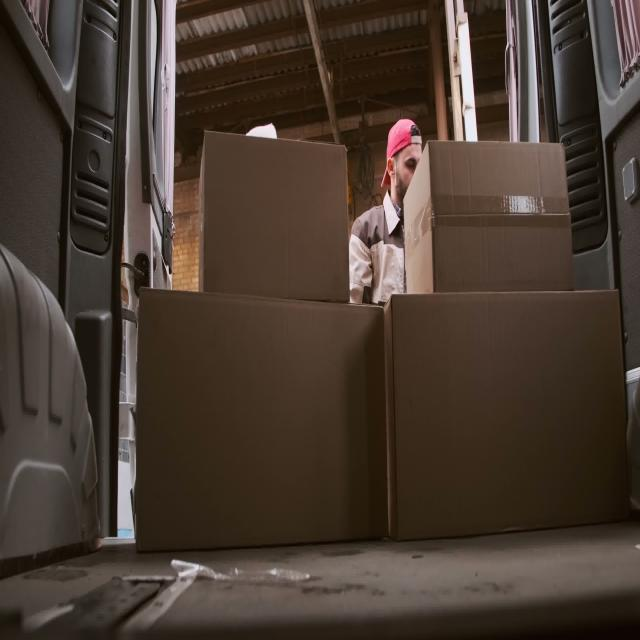counting-the-number-of-boxes: (136, 288, 389, 555), (384, 290, 629, 543), (403, 140, 574, 296), (198, 133, 349, 300)
